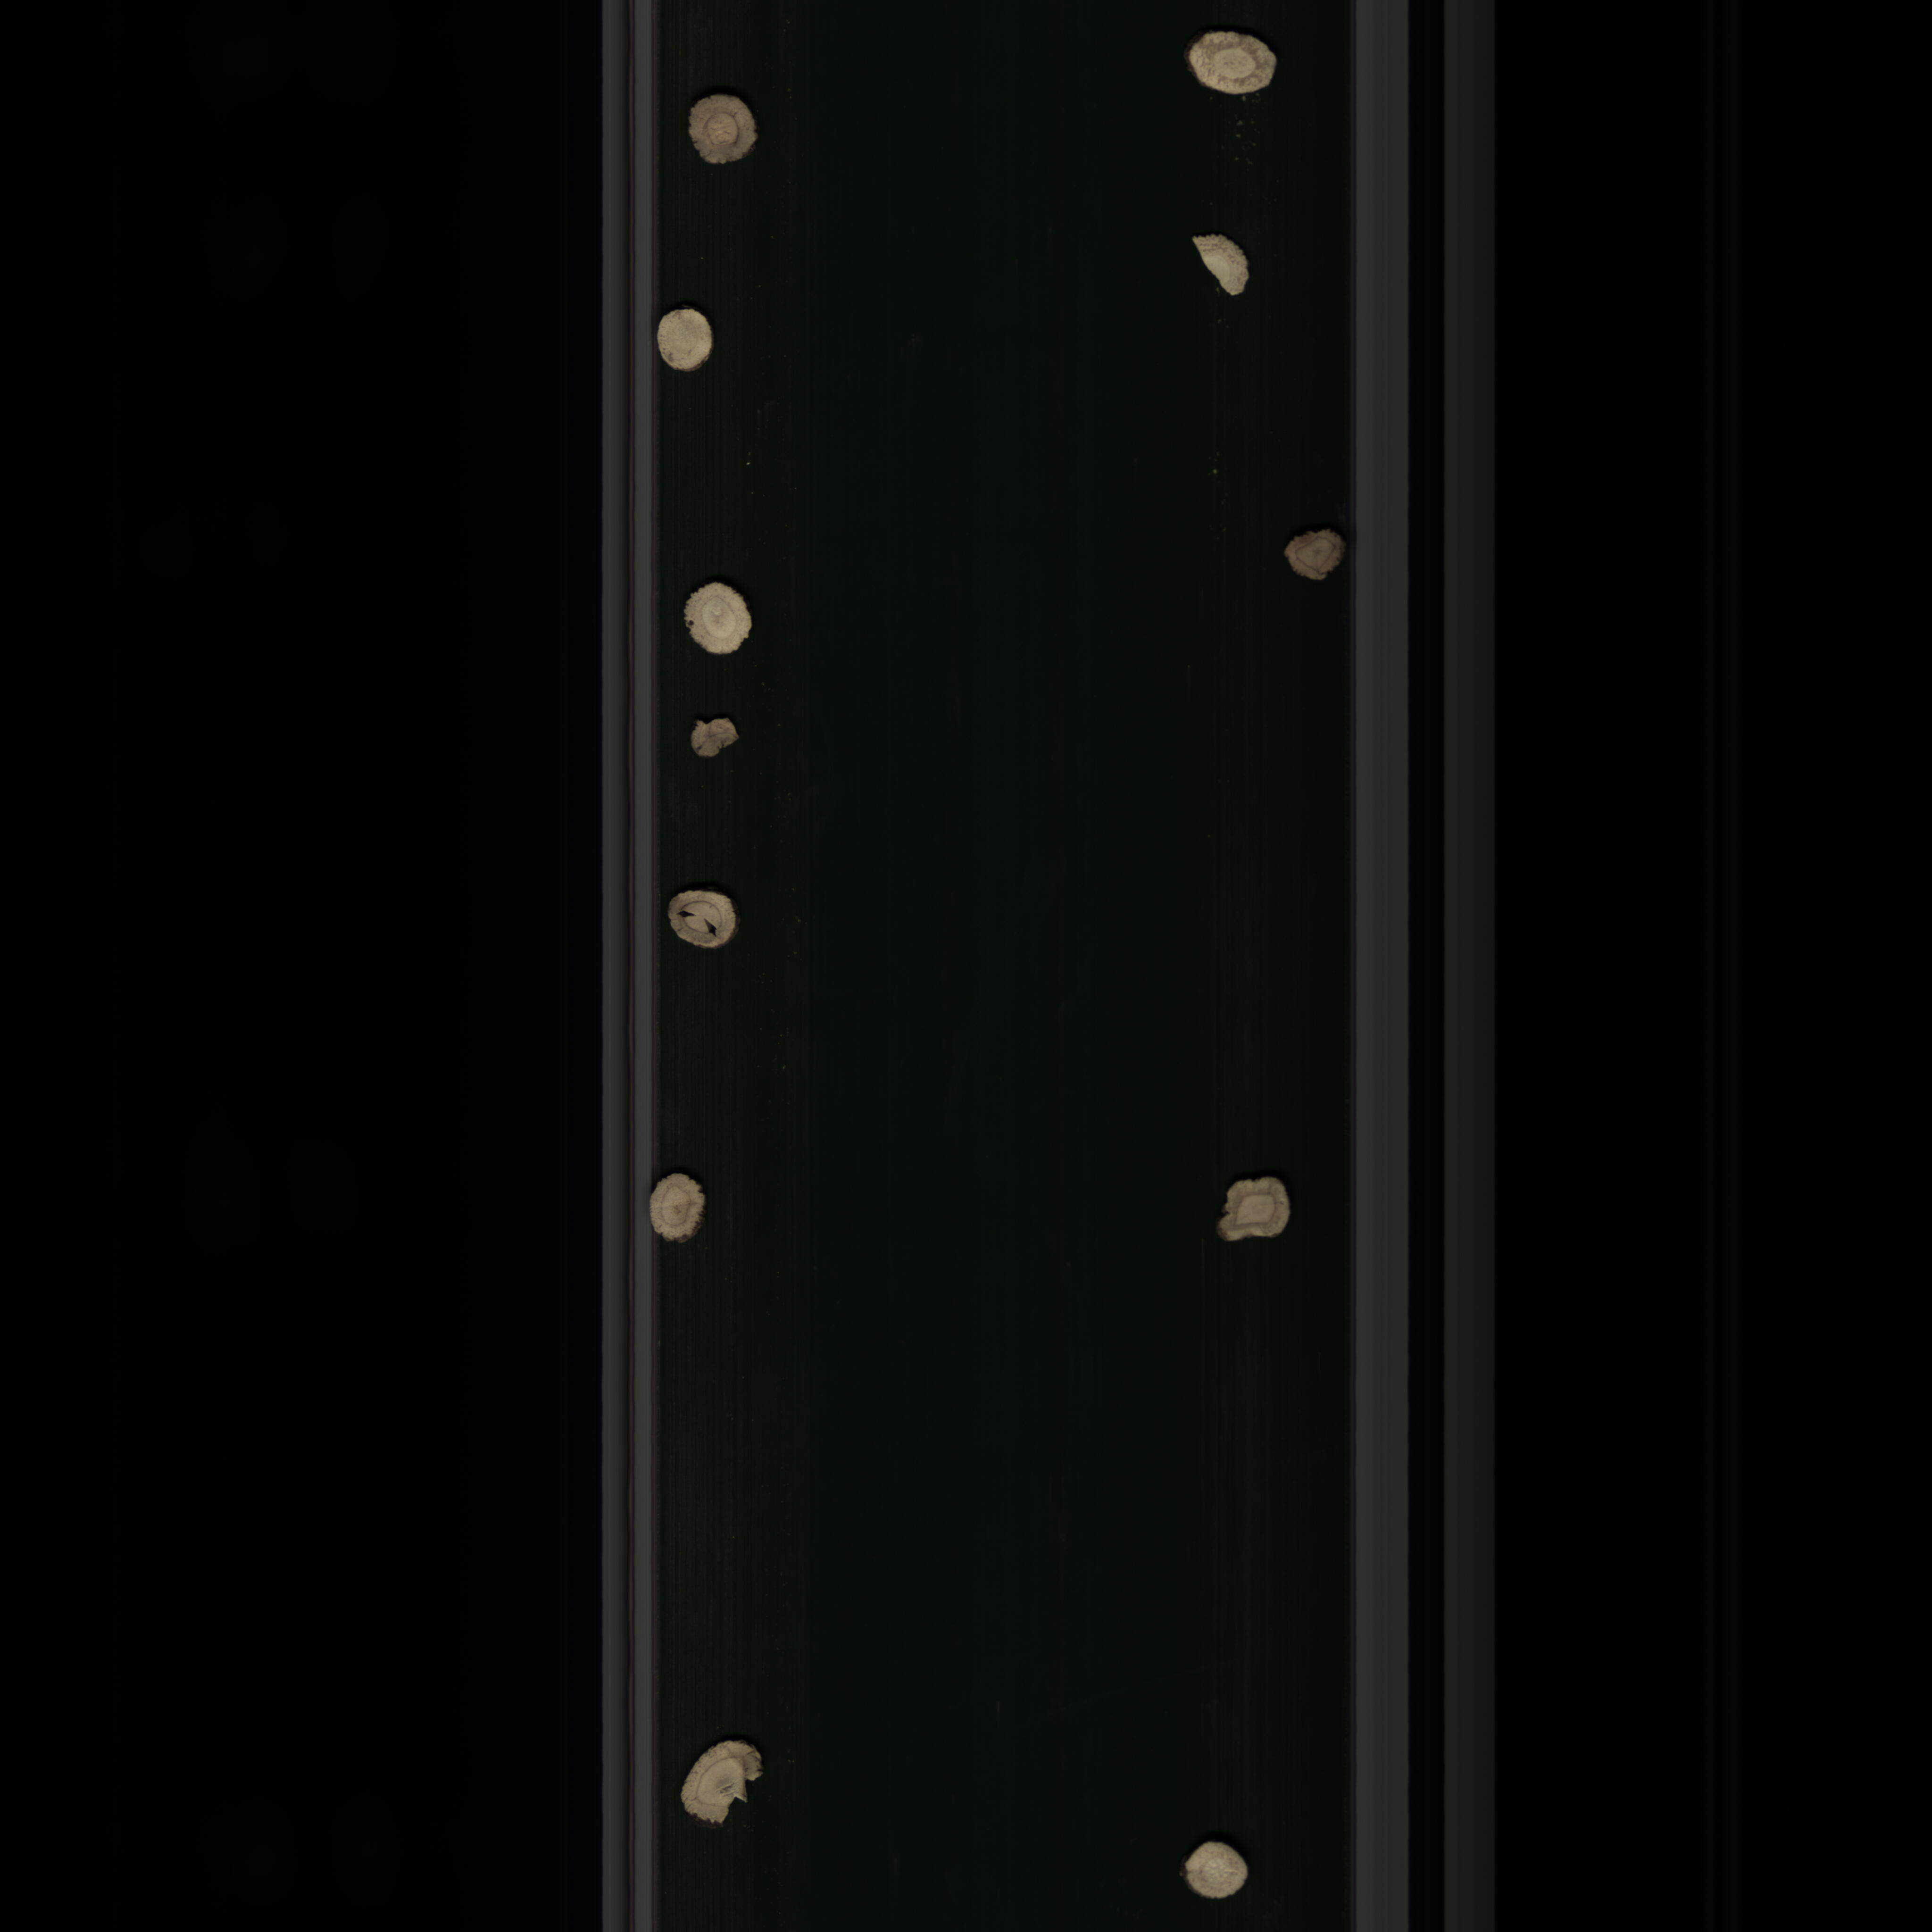bark: (679, 717, 768, 761)
debris: (679, 1729, 777, 1833), (1169, 228, 1254, 308)
hole: (665, 883, 754, 957)
moldy: (674, 90, 771, 175), (1269, 524, 1352, 589)
